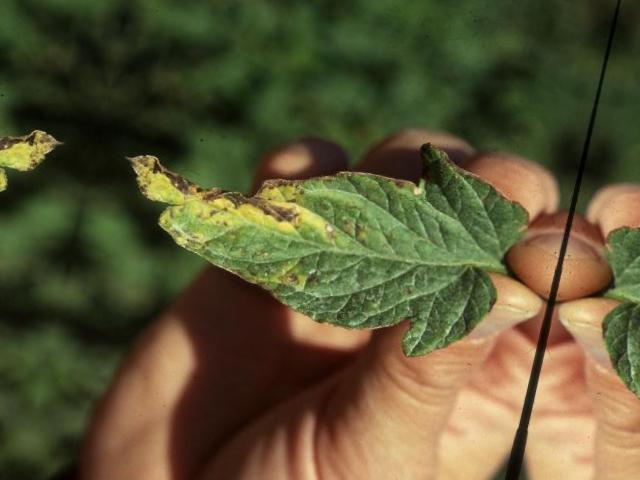Tomato leaf bacterial spot: (89, 76, 554, 384)
